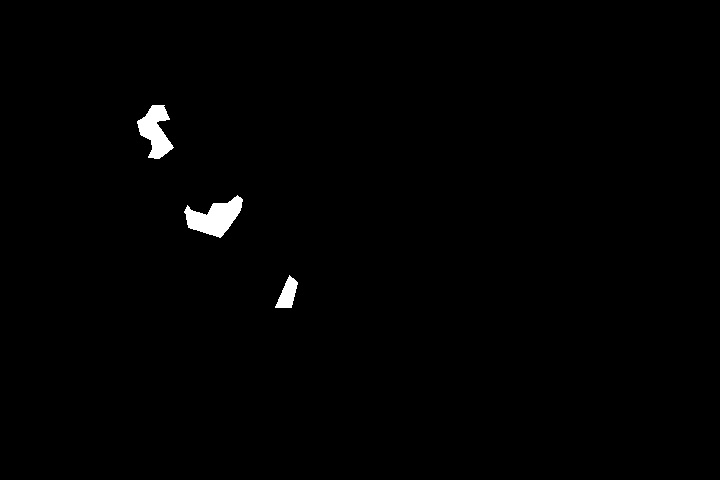Fire: (254, 257, 421, 349), (170, 167, 299, 249)
